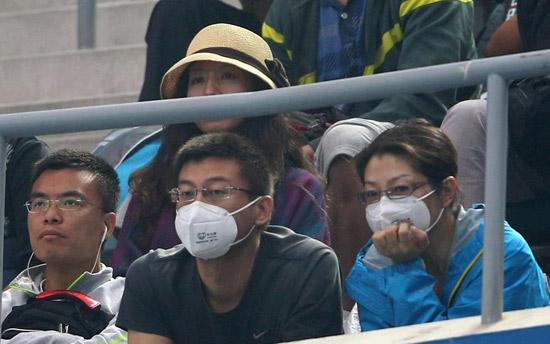NONE: (29, 188, 104, 261), (183, 65, 245, 127)
OK: (174, 172, 257, 255), (362, 167, 434, 239)
